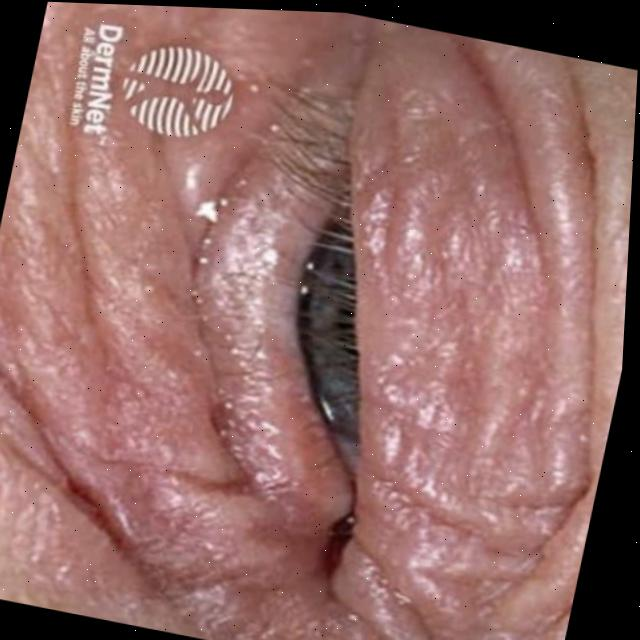Eczema: (94, 64, 539, 610)
